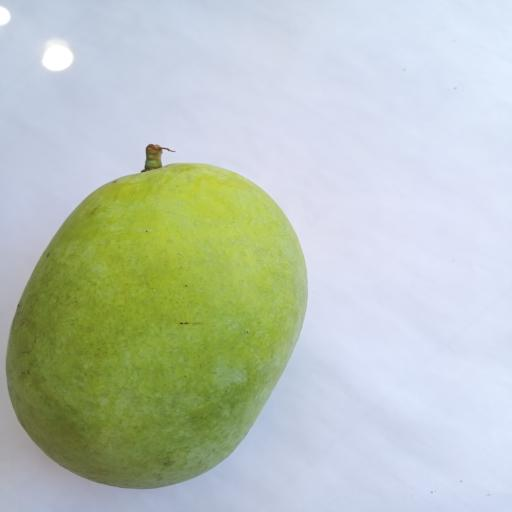mango-unripe: (0, 138, 330, 493)
